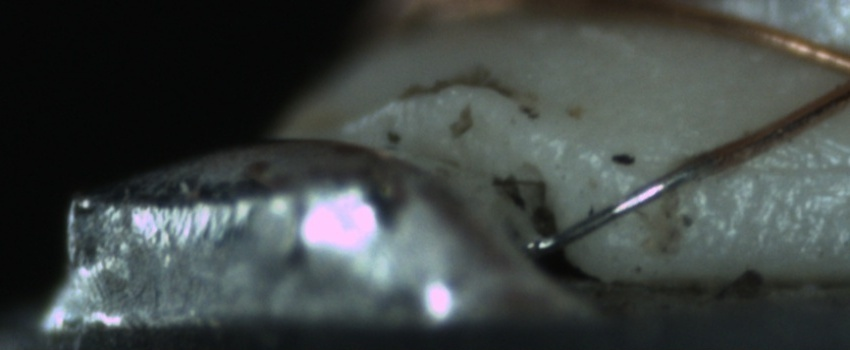CL: (810, 33, 850, 112)
DL: (686, 135, 849, 200)
TS: (531, 161, 701, 254)
TTCW: (525, 137, 733, 258)
